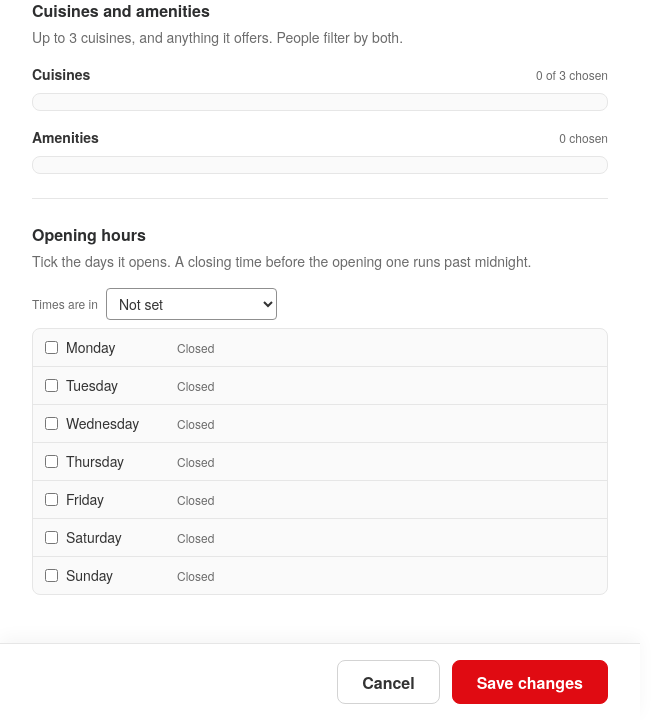
Test: a 400 the API should never send still tells the user something
(page scrolled)
Click the button "Save changes": (530, 682) [452, 660, 608, 704]
(page scrolled)
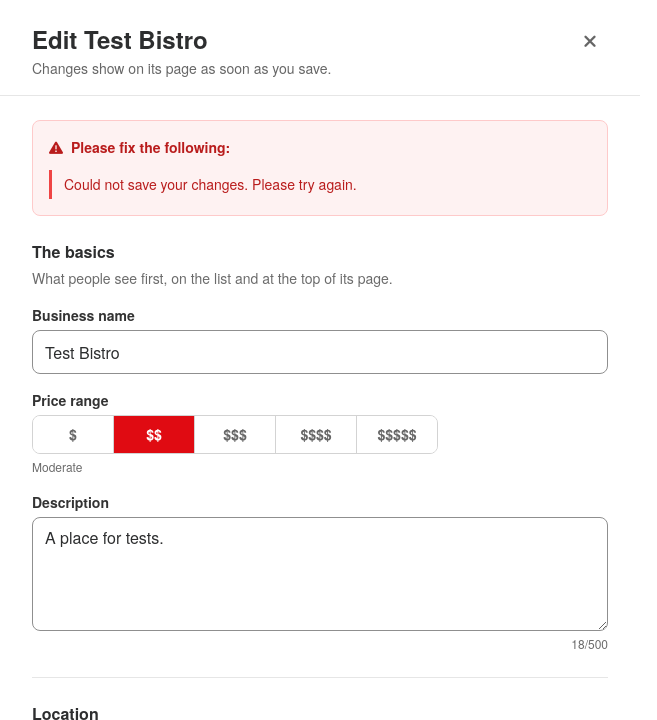
Expected: the list item "Could not save your changes. Please try again." is shown, [49, 170, 591, 199]
